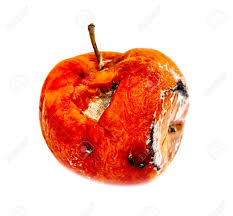damaged_apple: (38, 49, 191, 185)
